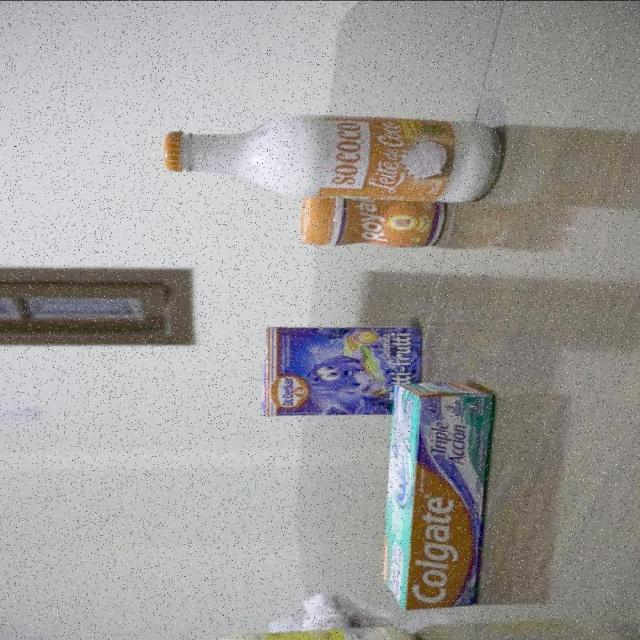CoconutMilk: (165, 112, 498, 198)
Gelatine: (262, 324, 421, 416)
Toothpaste: (380, 380, 496, 608)
Yeast: (296, 195, 442, 248)
